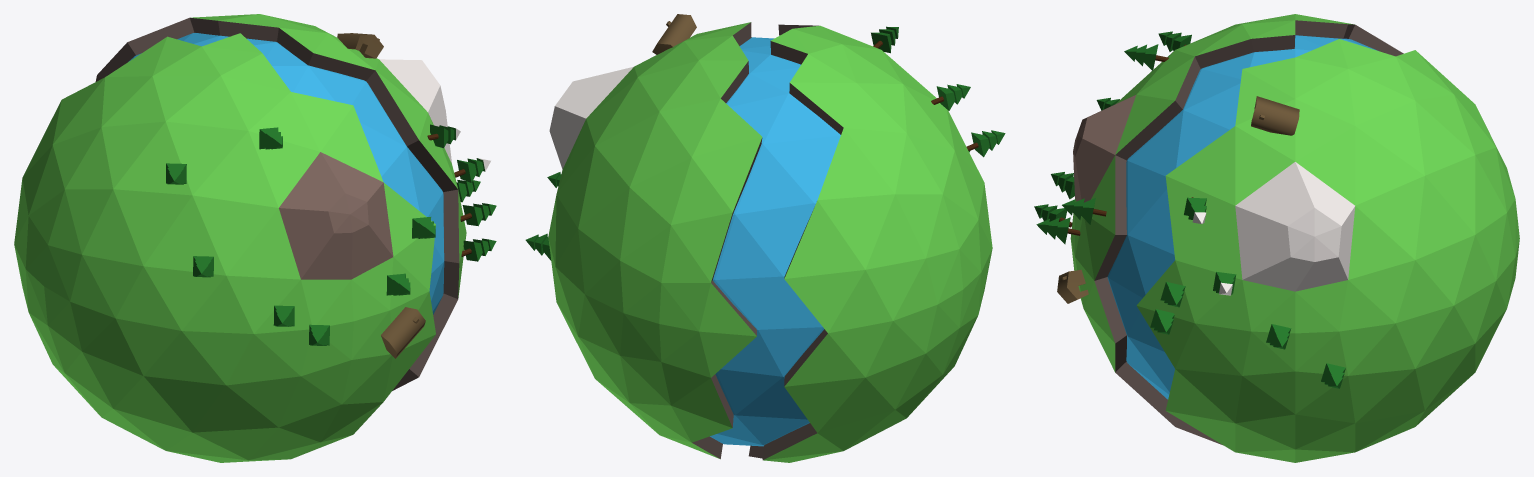
File: planet.dae
3 renders of one model, left to right at view 1: azimuth 30°, elevation 25°; view 2: azimuth 150°, elevation 25°; view 3: azimuth 270°, elevation 25°, orthographic.
Parts seen in each view (by area): view 1: Sphere, Sphere.1, building (×2), tree.2, tree.6, tree.7, tree.1, tree.4, tree; view 2: Sphere, Sphere.1, building, tree.5, tree.8, tree.4; view 3: Sphere, Sphere.1, building (×2), tree.3, tree, tree.4, tree.1.
Part boxes in pixels (x1,y1,x2,y2): Sphere: [14, 14, 466, 462]; Sphere.1: [128, 33, 444, 314]; building (×2): [337, 33, 425, 358]; tree.2: [454, 158, 490, 182]; tree.6: [460, 203, 496, 226]; tree.7: [461, 238, 496, 261]; tree.1: [427, 124, 460, 148]; tree.4: [259, 127, 282, 149]; tree: [386, 273, 410, 295]; Sphere: [548, 22, 992, 462]; Sphere.1: [710, 37, 840, 446]; building: [652, 14, 696, 54]; tree.5: [931, 84, 970, 110]; tree.8: [966, 130, 1005, 157]; tree.4: [871, 26, 898, 53]; Sphere: [1070, 14, 1519, 462]; Sphere.1: [1107, 35, 1377, 399]; building (×2): [1057, 96, 1299, 303]; tree.3: [1062, 197, 1106, 224]; tree: [1036, 217, 1080, 244]; tree.4: [1124, 44, 1168, 70]; tree.1: [1184, 197, 1206, 223].
Size of the model in its own units: 548 by 500 by 541.
